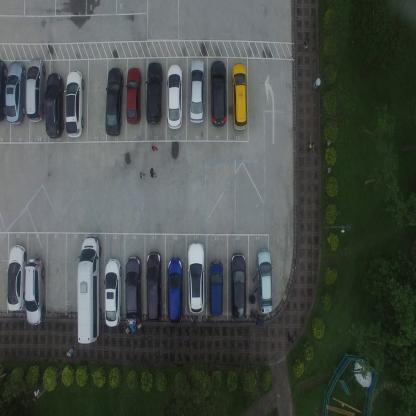car: (76, 235, 102, 344), (6, 243, 27, 313), (24, 257, 45, 325), (25, 56, 45, 123), (124, 255, 142, 329), (65, 69, 84, 139), (44, 72, 64, 138), (188, 242, 206, 314), (105, 66, 123, 136), (104, 256, 122, 326), (5, 60, 24, 125), (166, 256, 184, 324), (230, 62, 247, 131), (146, 250, 162, 322), (210, 58, 226, 128), (230, 252, 246, 322), (146, 61, 163, 126), (166, 62, 182, 130), (190, 57, 206, 124), (256, 248, 272, 315), (126, 67, 142, 124), (208, 259, 223, 318), (0, 57, 7, 123)
